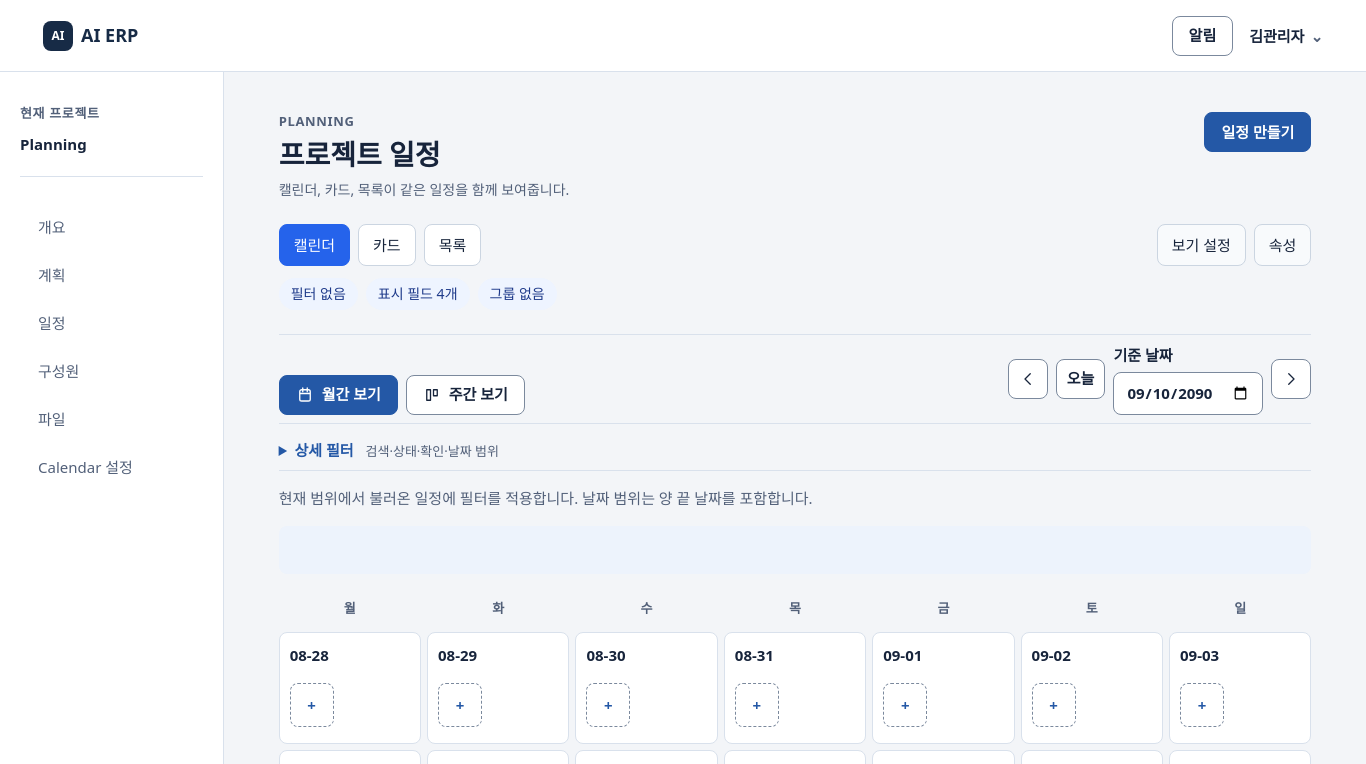
Scenario: Calendar denial locks an already-open property editor
The image size is (1366, 764).
Click the button "속성".
click(1283, 245)  # box [1254,224,1311,266]
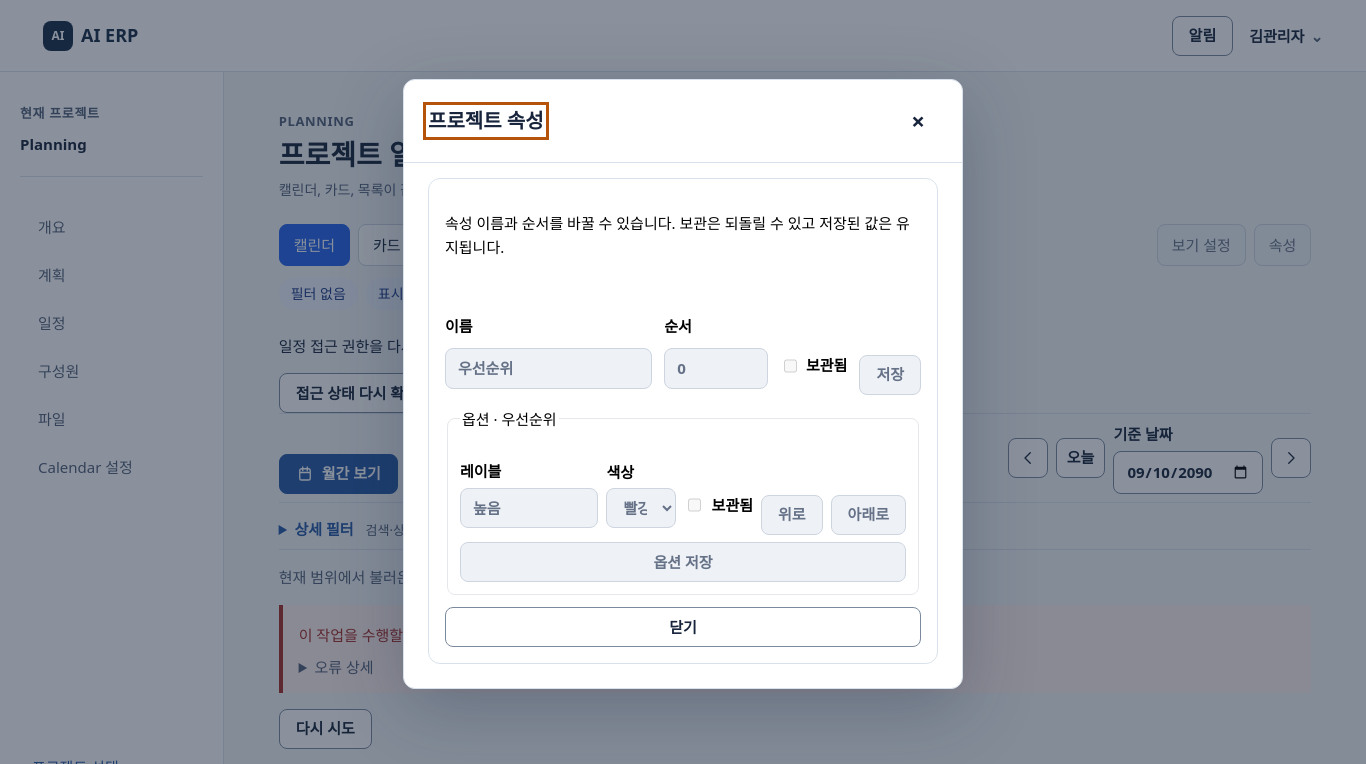
Now the text "일정 접근 권한을 다시 확인해야 합니다. 금지된 작업은 비활성화했습니다." is shown, box [279,336,732,356]
Now the button "옵션 저장" is disabled, box [460,542,906,582]
Now the button "저장" is disabled, box [859,355,921,395]
